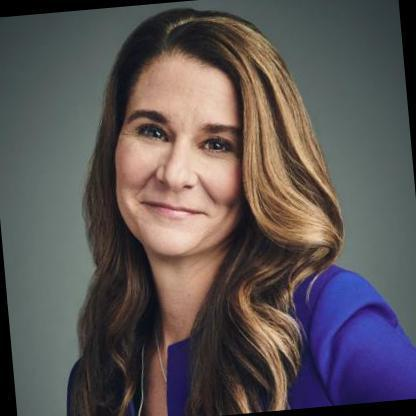Sober: (119, 58, 240, 253)
